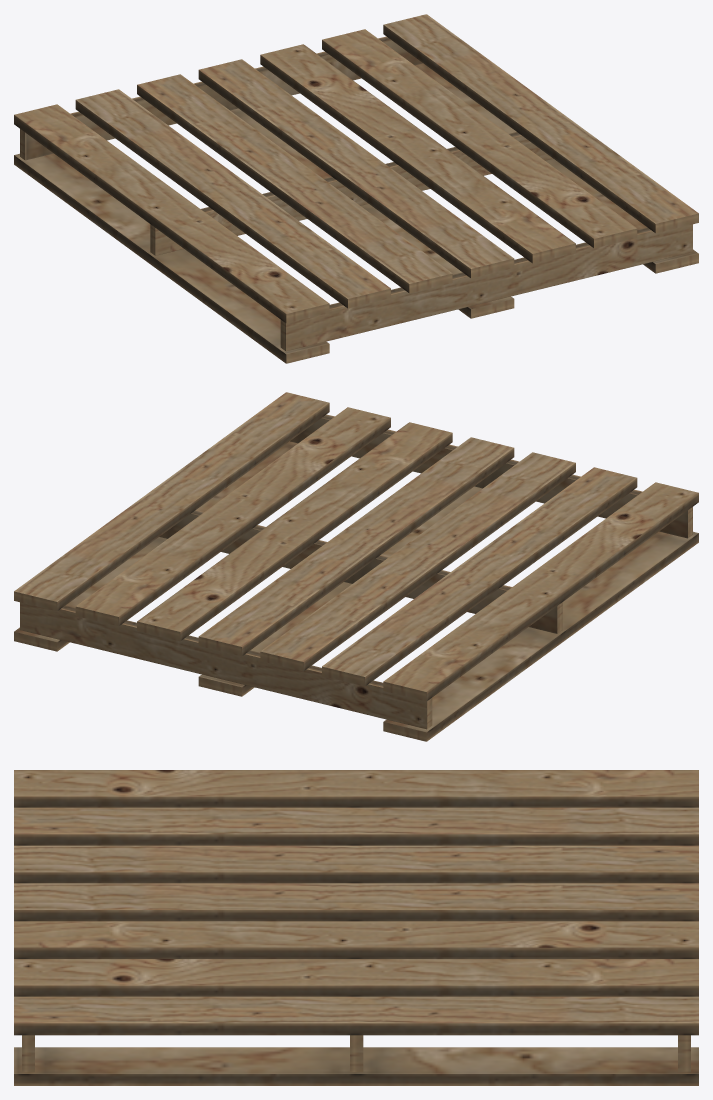
Rendered from MiniBR_Palette001.fbx.
The picture shows the model from 3 angles, top to bottom: view 1: azimuth 30°, elevation 25°; view 2: azimuth 150°, elevation 25°; view 3: azimuth 270°, elevation 25°; orthographic projection. The views are drawn at different scales.
Visible parts, largest first — view 1: MiniBR_Palette001; view 2: MiniBR_Palette001; view 3: MiniBR_Palette001.
Part boxes in pixels (<box>): MiniBR_Palette001: <box>14,14,698,363</box>; MiniBR_Palette001: <box>14,392,698,741</box>; MiniBR_Palette001: <box>14,770,698,1085</box>.
Bounding box in the file's own units: 263 × 300 × 30.24.
Materials: 1 (1 with a texture image).
